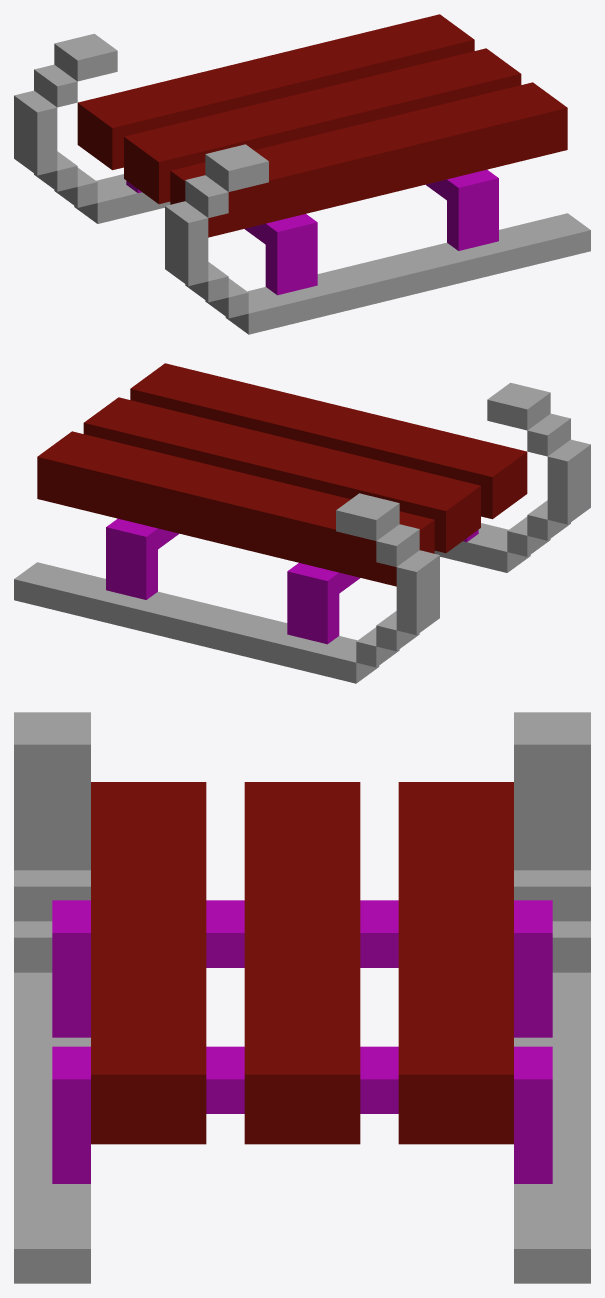
File: Vehicle_10.fbx
3 views of the same model, one above another, from view 1: azimuth 30°, elevation 25°; view 2: azimuth 150°, elevation 25°; view 3: azimuth 270°, elevation 25° (orthographic). The views are drawn at different scales.
Visible parts, largest first — view 1: Vehicle_10; view 2: Vehicle_10; view 3: Vehicle_10.
Part boxes in pixels (x1,y1,x2,y2): Vehicle_10: (14, 14, 590, 334); Vehicle_10: (14, 363, 590, 683); Vehicle_10: (14, 712, 590, 1283).
Size of the model in its own units: 20 by 8 by 15.
1 material, 1 textured.
